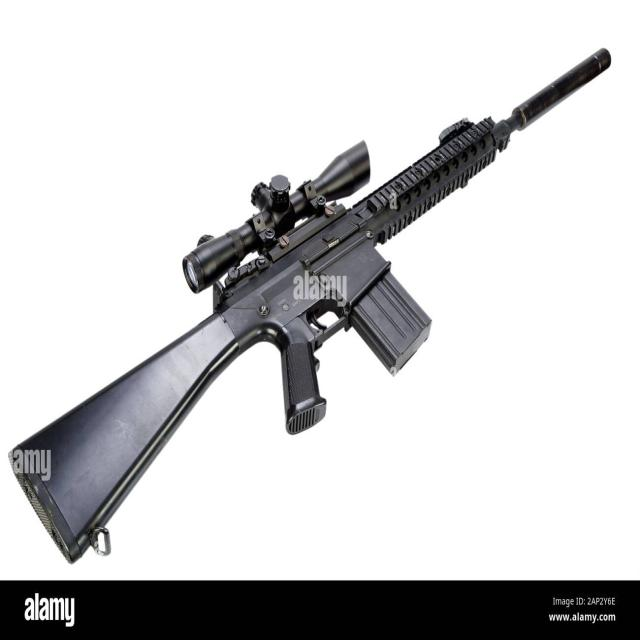Rifle: (8, 48, 614, 566)
